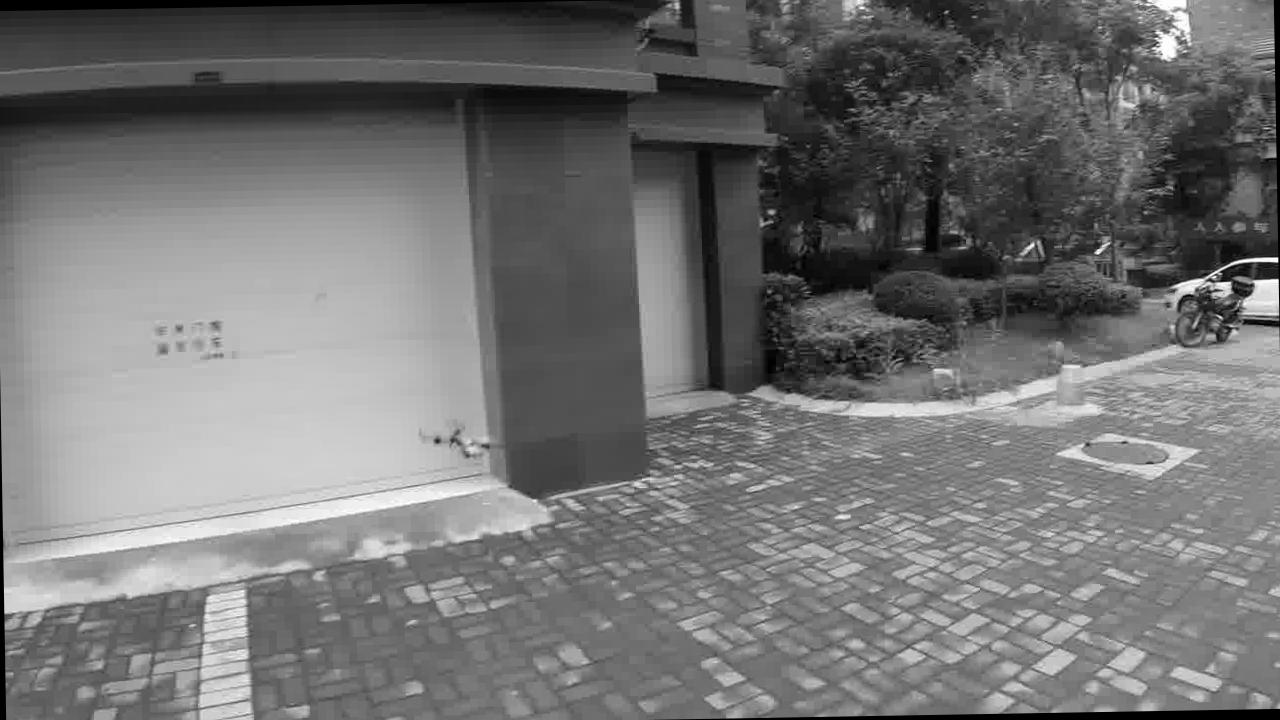drone: (432, 412, 498, 462)
